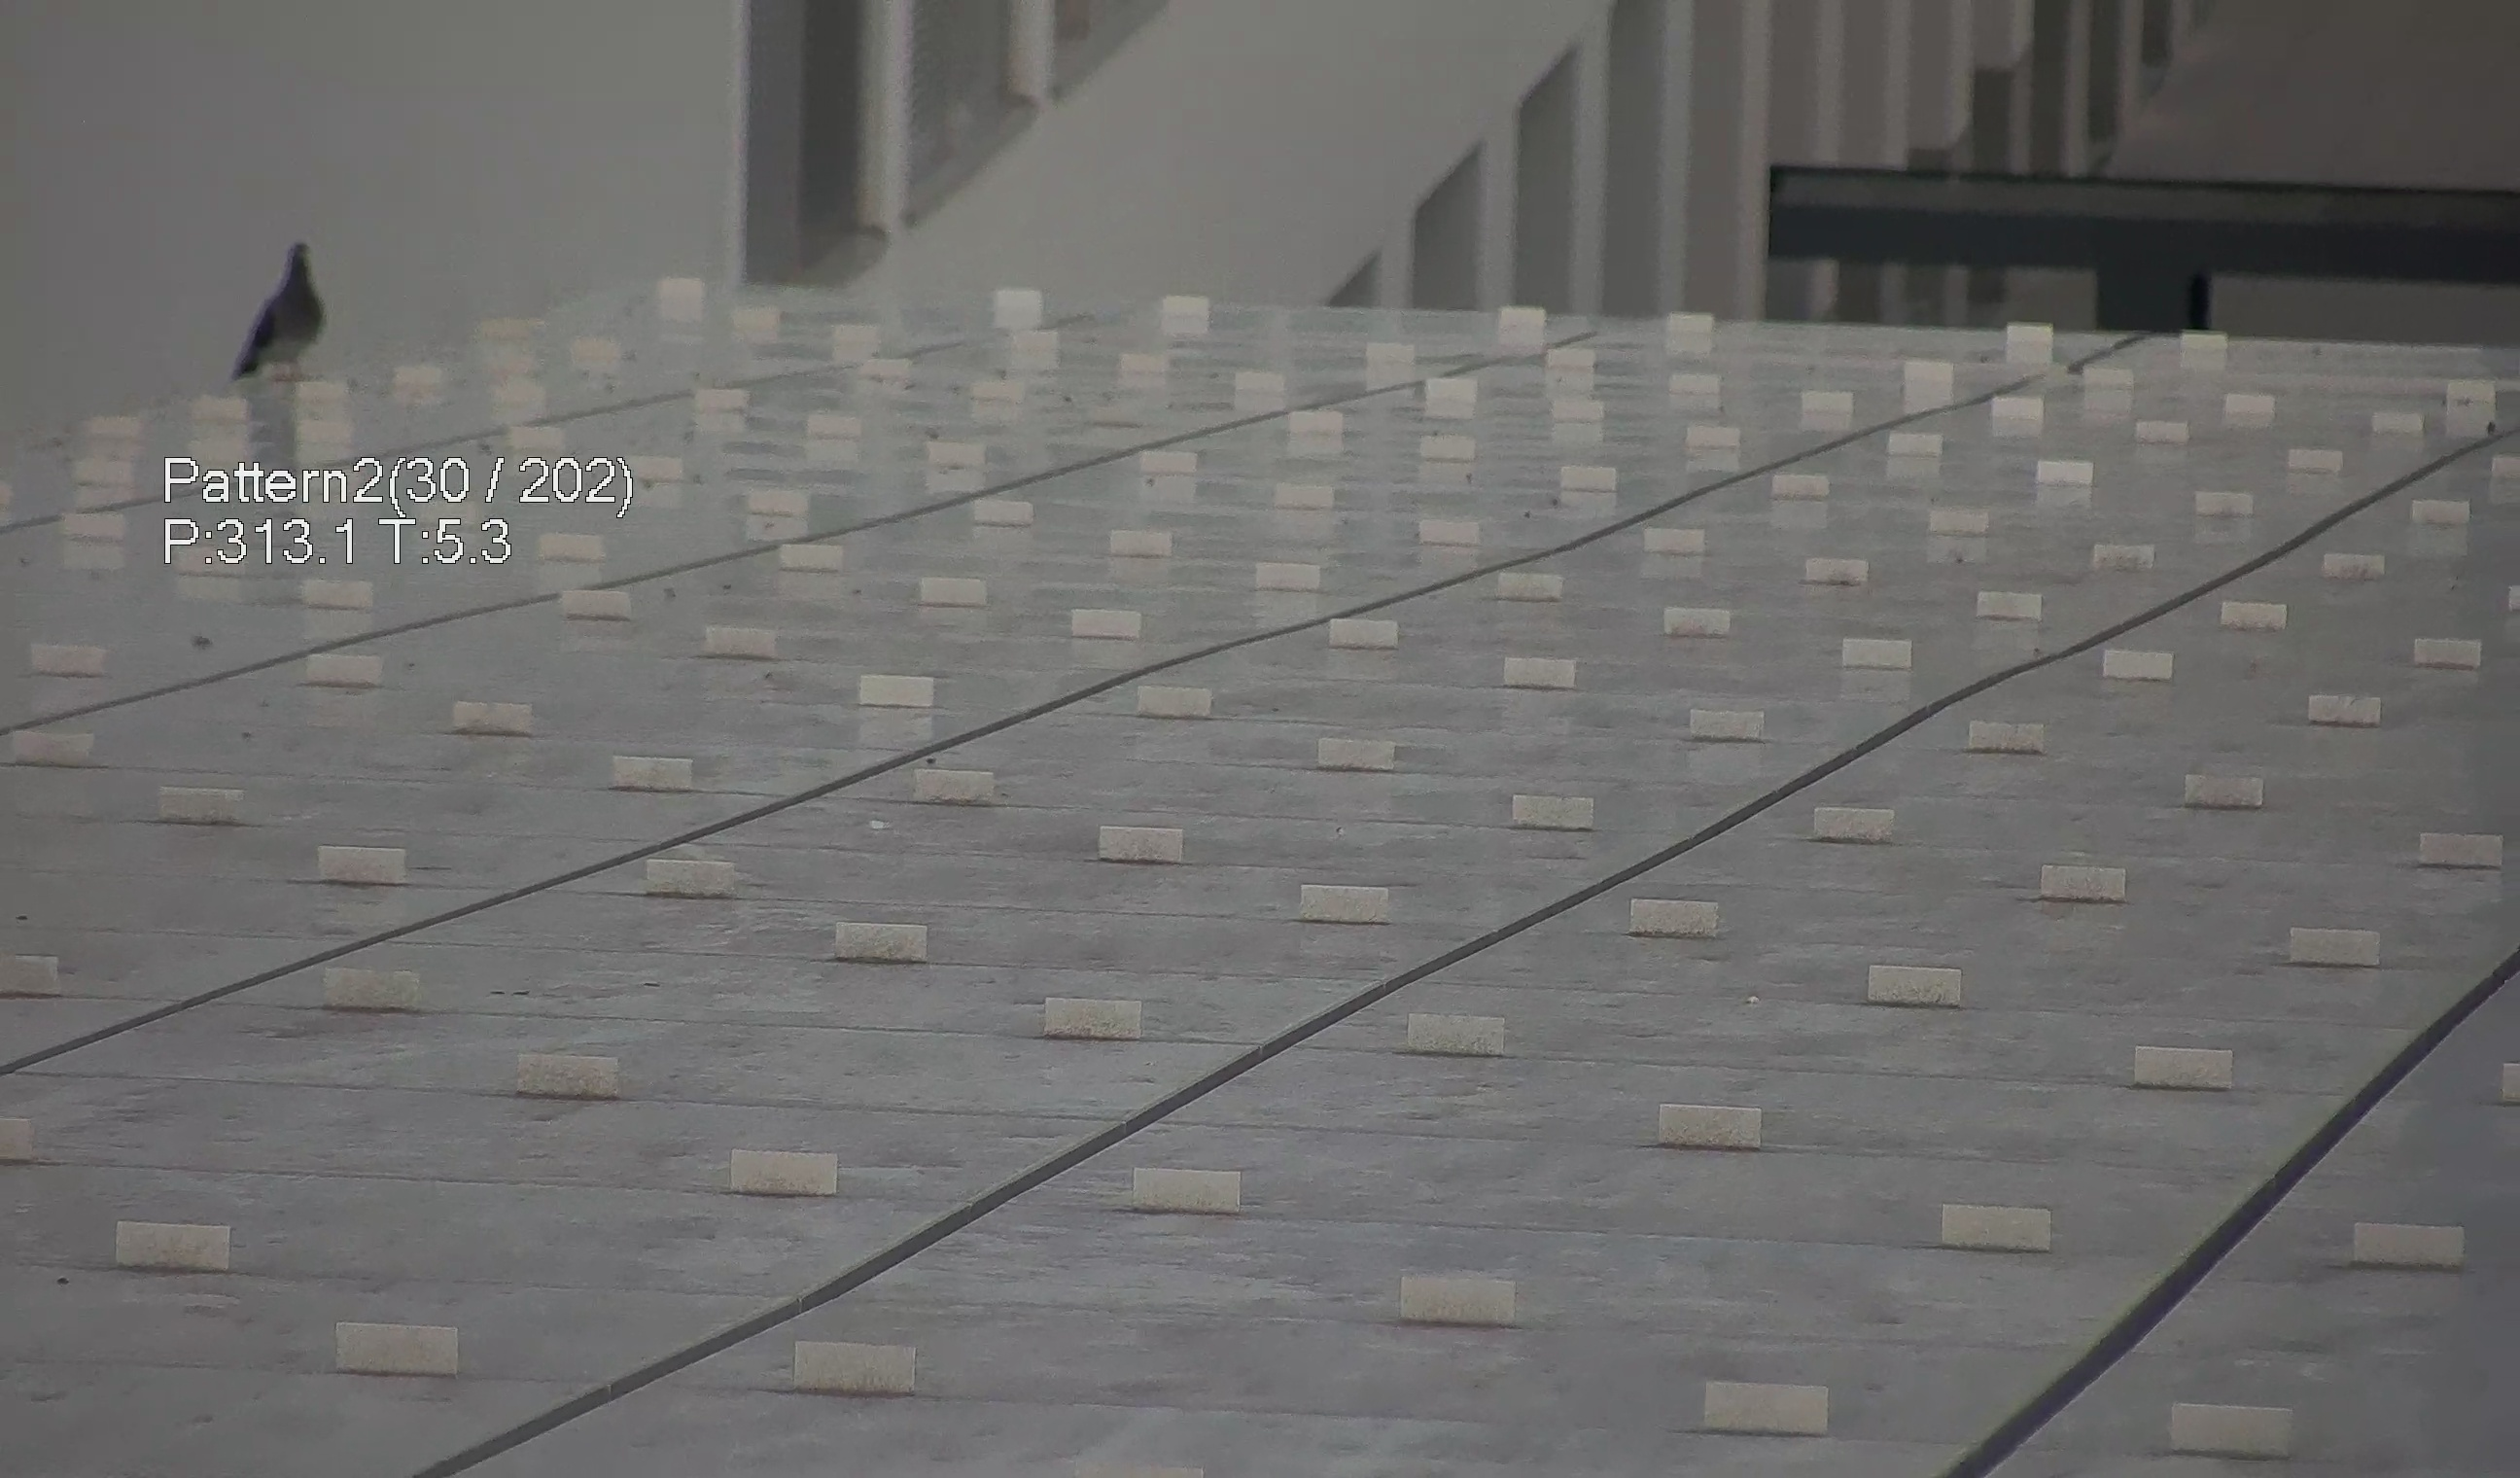Pigeon: (213, 223, 332, 394)
